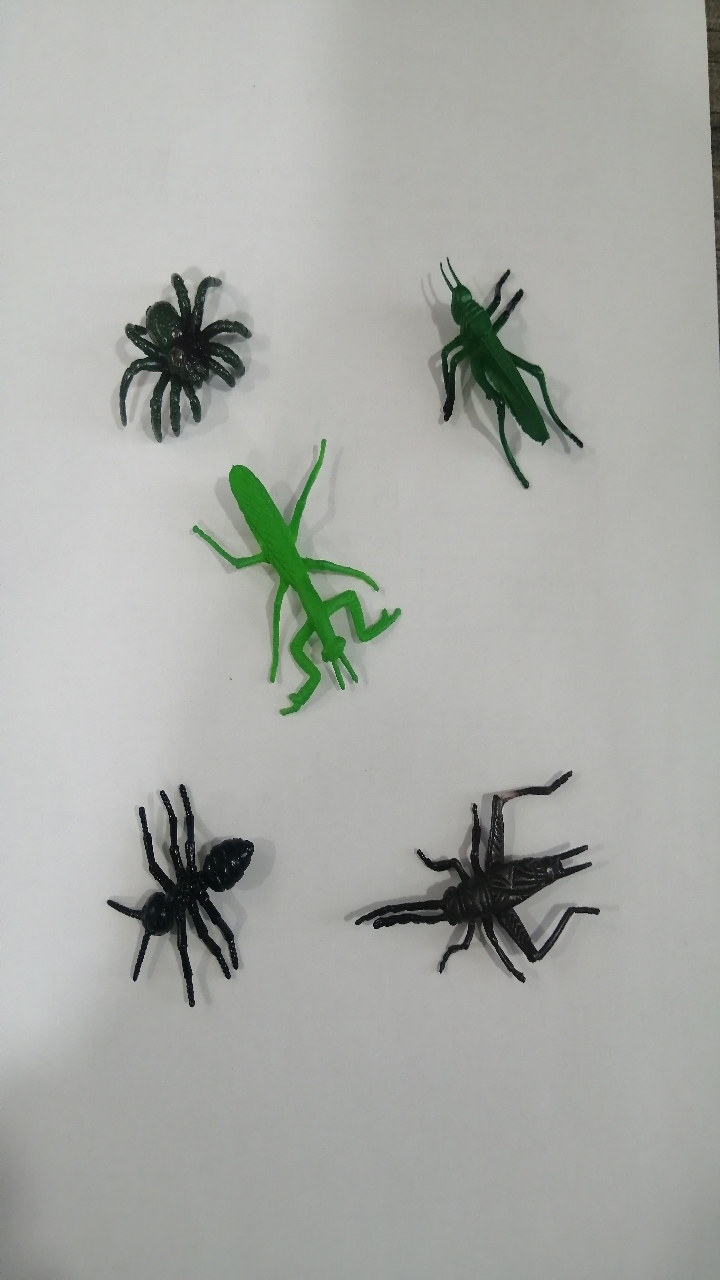intruso: (334, 754, 635, 1014), (168, 449, 418, 735), (389, 239, 604, 509), (91, 760, 284, 1012), (71, 242, 277, 455)
